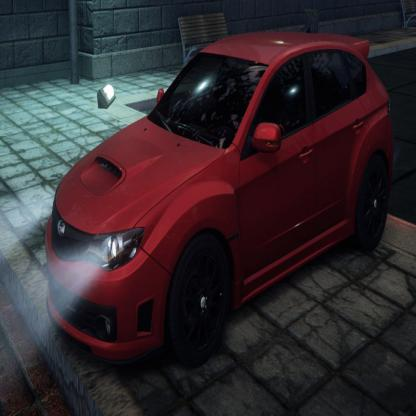Car: (45, 31, 394, 364)
